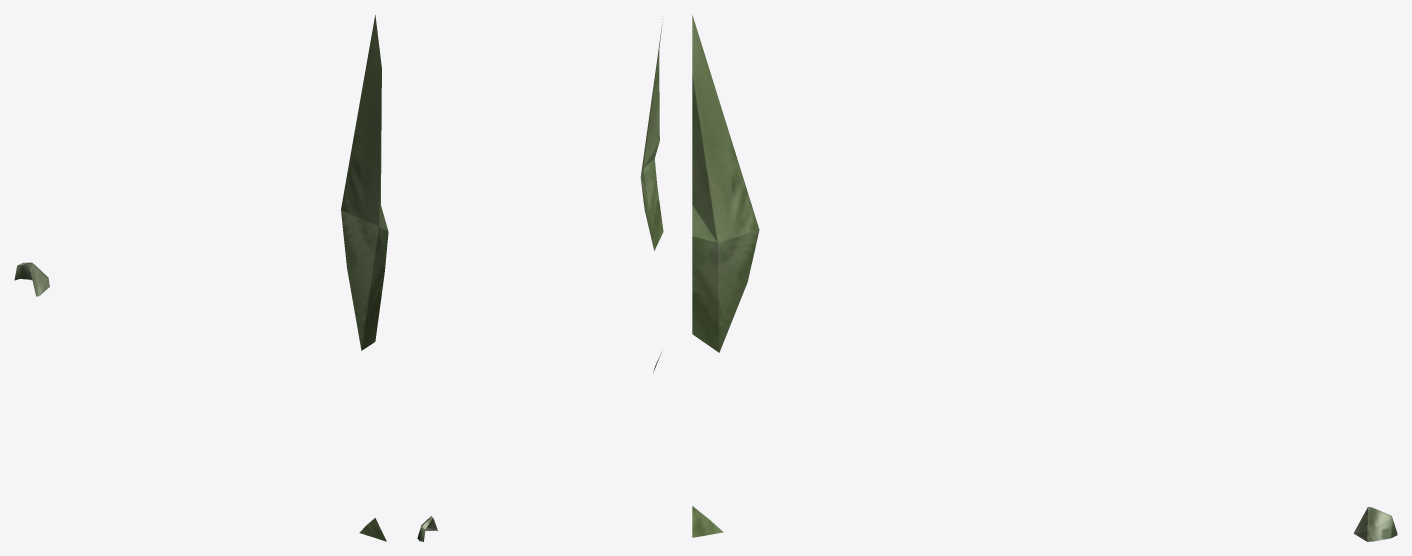
3 views of the same model, side by side, from view 1: azimuth 30°, elevation 25°; view 2: azimuth 150°, elevation 25°; view 3: azimuth 270°, elevation 25° (orthographic). The views are drawn at different scales.
Size of the model in its own units: 0.0765 by 1.91 by 2.36.
1 material, 1 textured.
